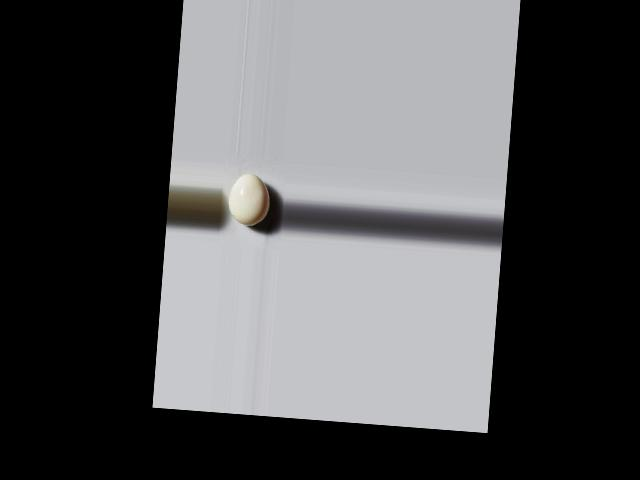egg: (227, 173, 271, 227)
